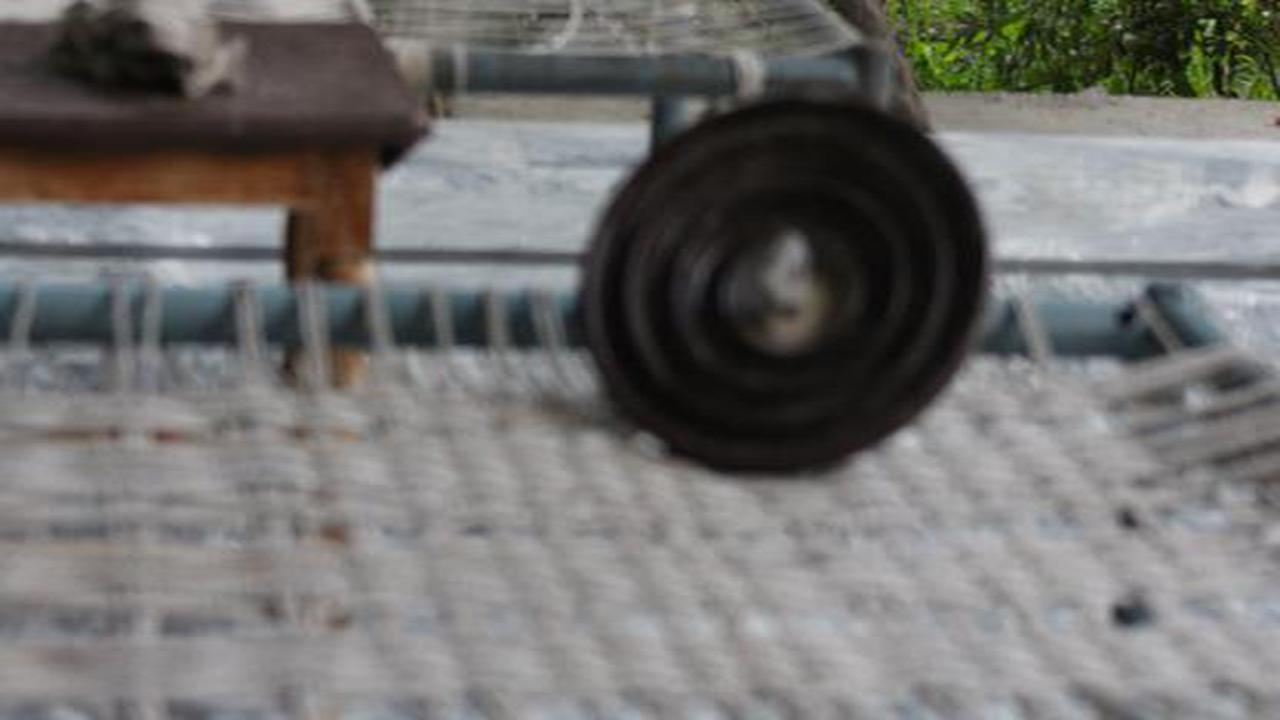insulator_disc: (574, 90, 1002, 484)
